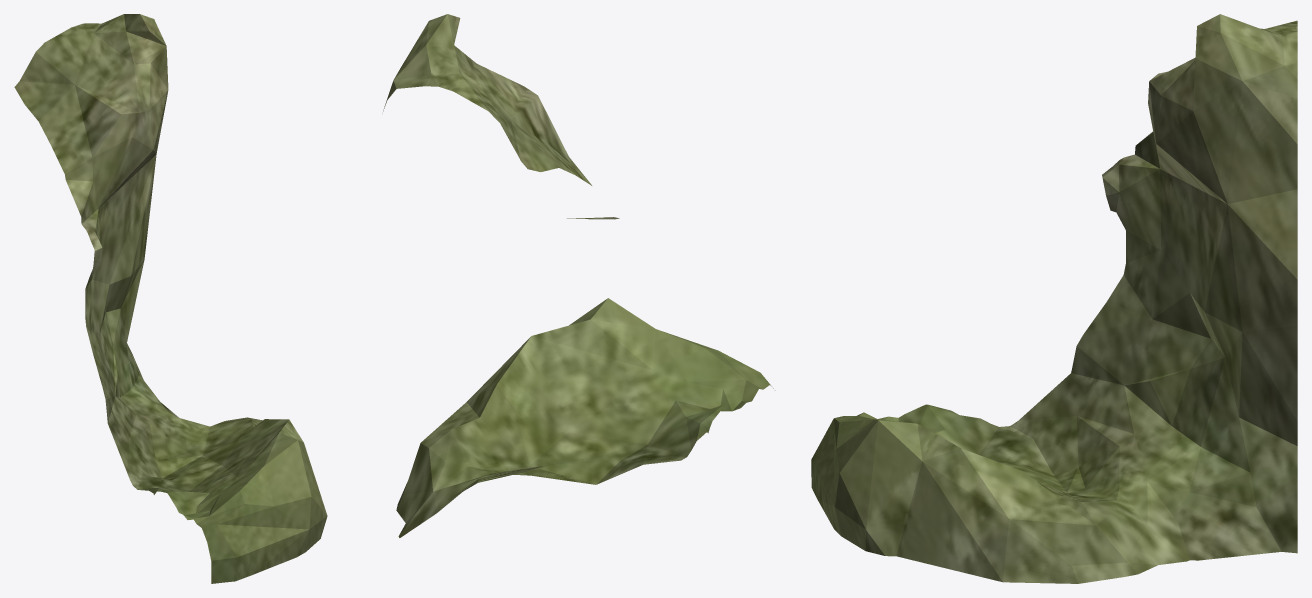
3 views of the same model, side by side, from view 1: azimuth 30°, elevation 25°; view 2: azimuth 150°, elevation 25°; view 3: azimuth 270°, elevation 25° (orthographic). The views are drawn at different scales.
Size of the model in its own units: 0.988 by 2.19 by 1.87.
1 material, 1 textured.
